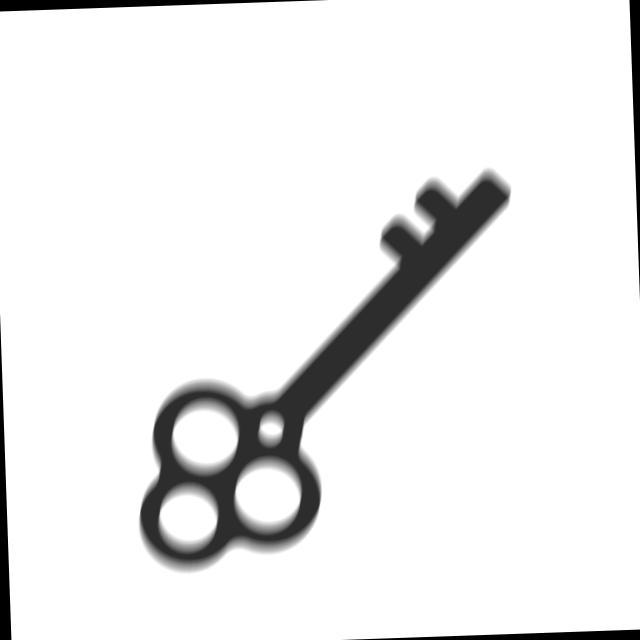key: (119, 161, 529, 582)
